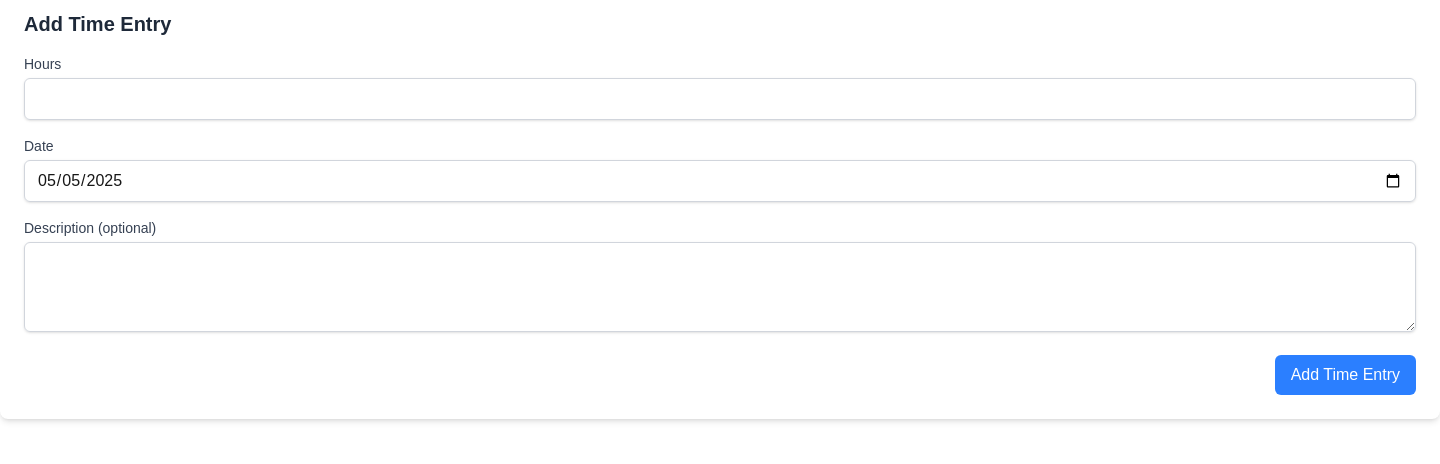
Test case: TimeEntryForm › displays error when hours is negative
Type "-1" into the number field labelled "Hours" at (720, 99), box [24,78,1416,120]
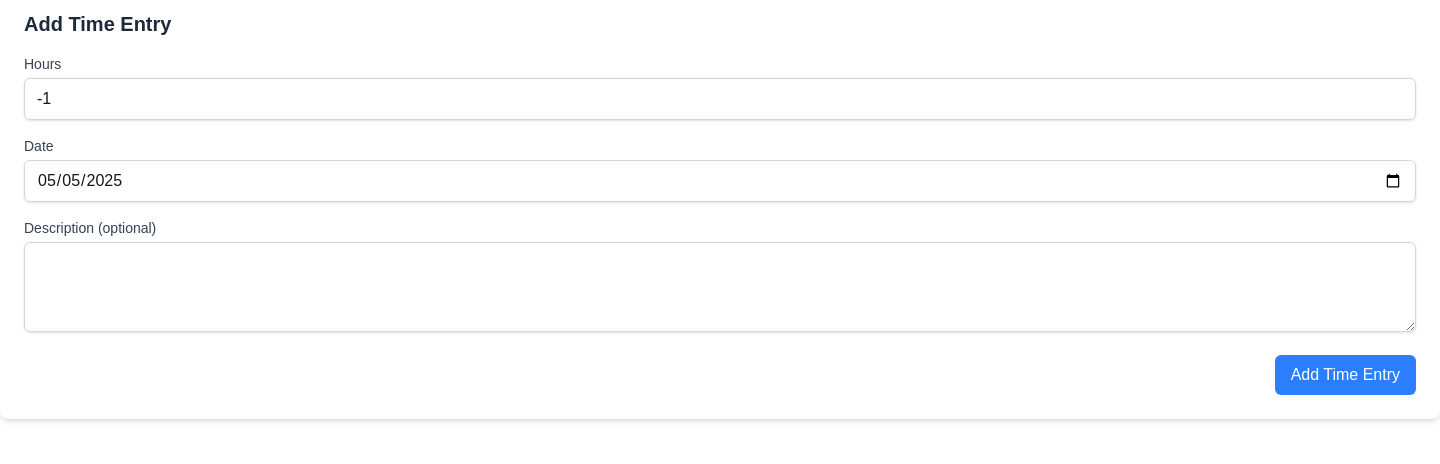
Type "2025-05-03" into the date field labelled "Date" at (720, 181), box [24,160,1416,202]
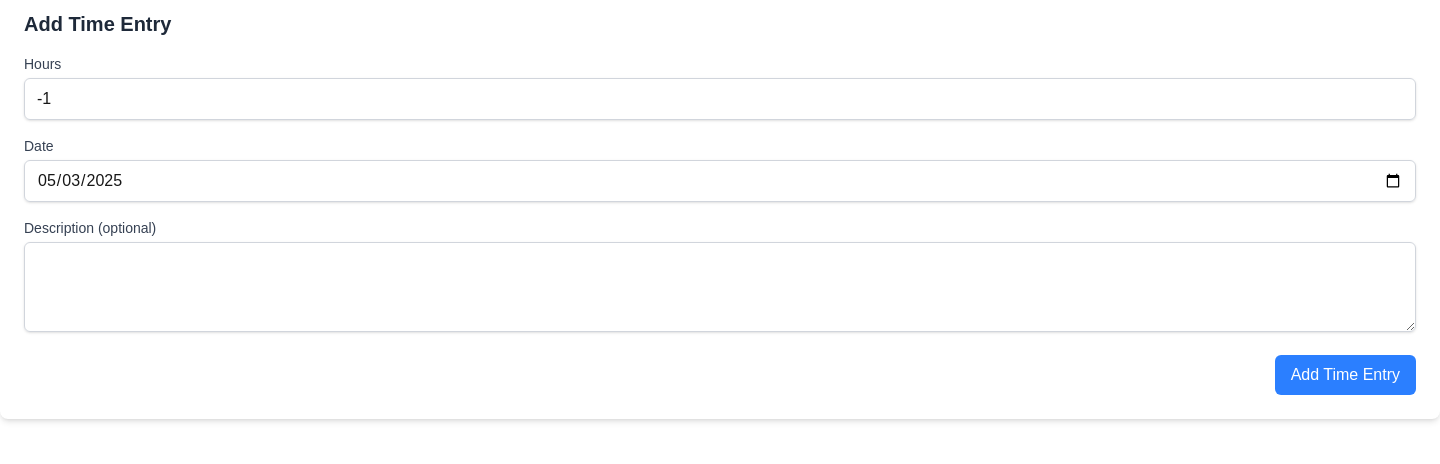
Submit the form with test id "time-entry-form"
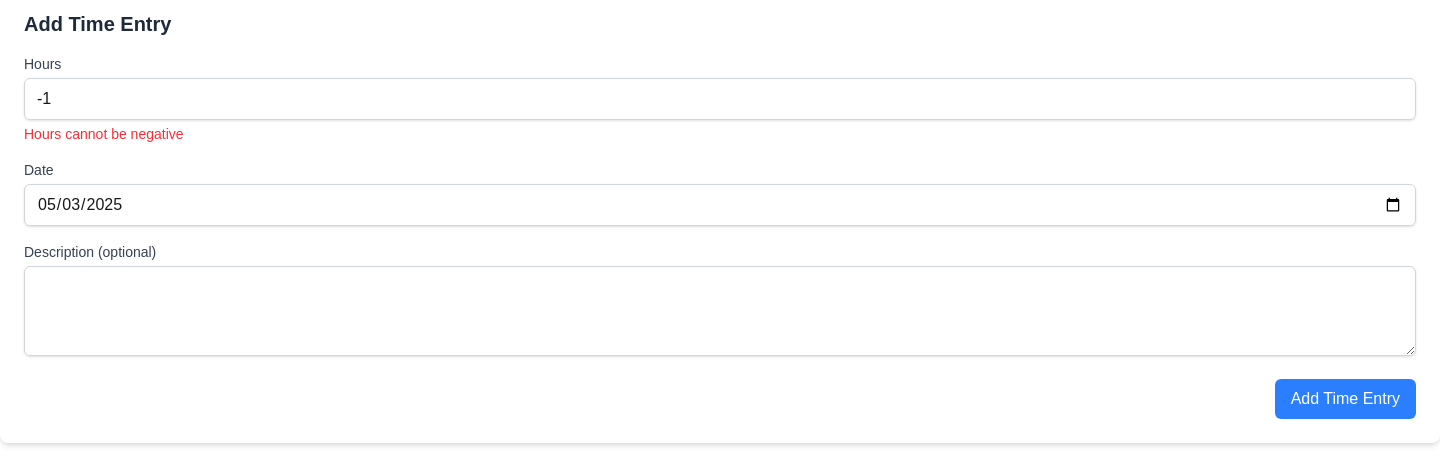
Result: the text "Hours cannot be negative" is shown at [24,126,184,142]
